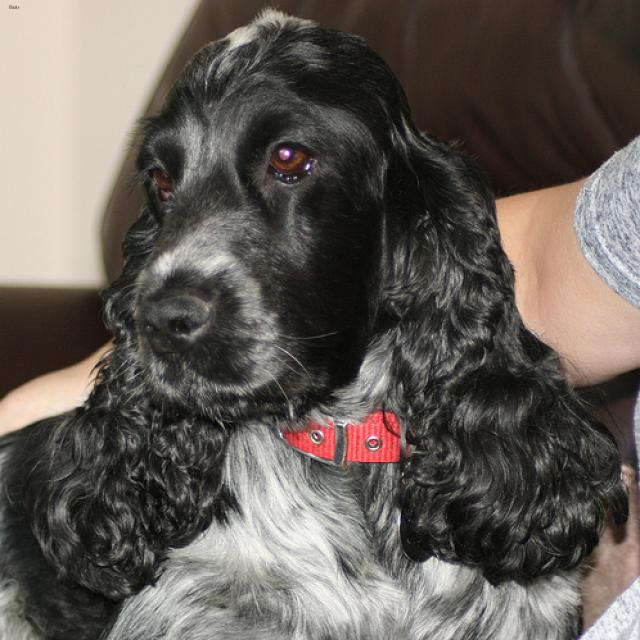dog-english_cocker_spaniel: (1, 1, 637, 637)
